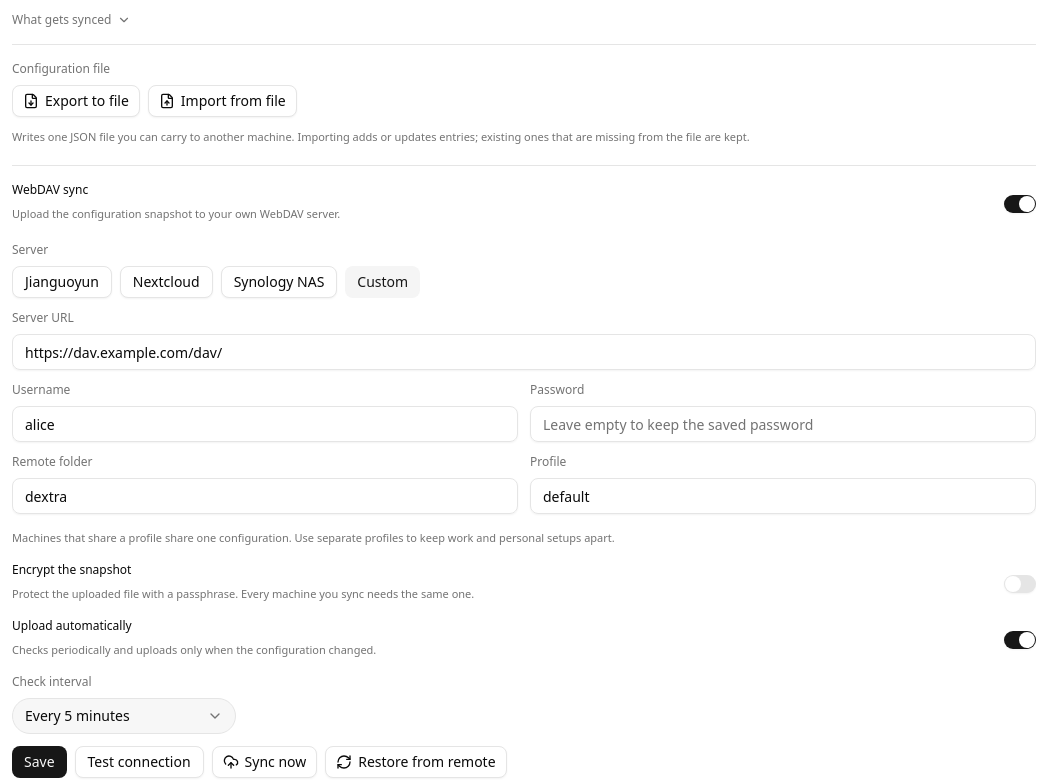
Test: ConfigSyncSettings — credentials › persists the master switch on click, so sync can be turned off
expect the button "Save" is shown: met, box [12,746,67,778]
What coordinates should you click on to do the following:
click the switch named "WebDAV sync" in the row of "WebDAV sync"
I would click on:
 (1020, 204)
Its box is [1004,195,1036,213].
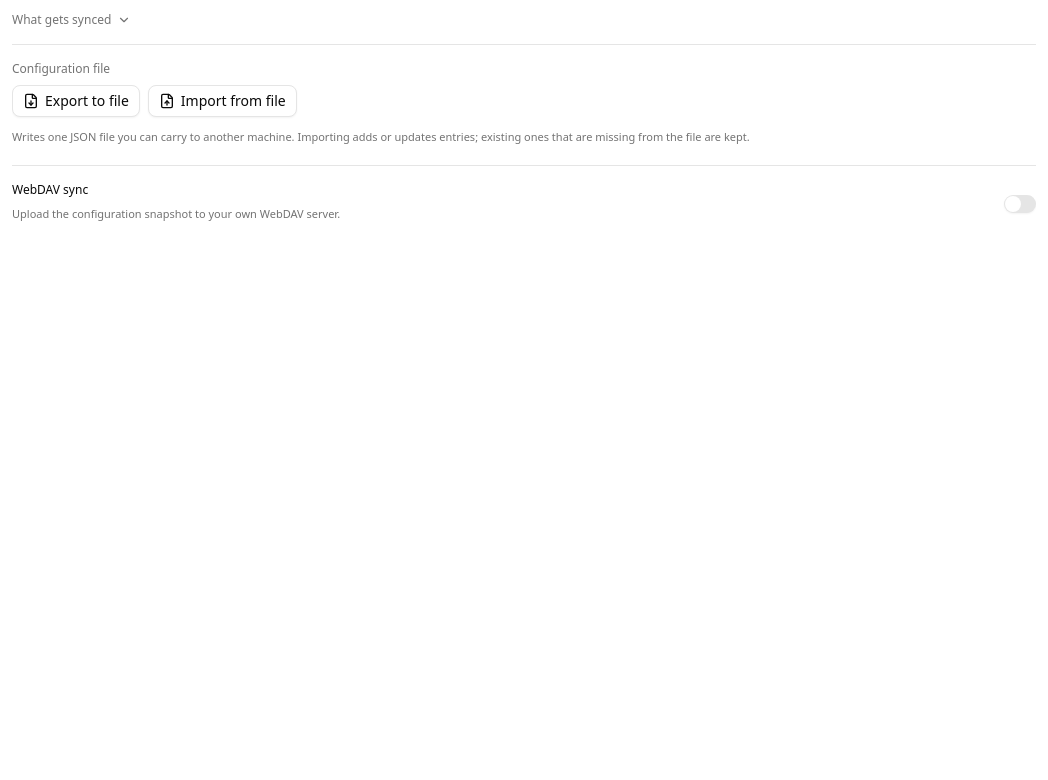
expect the button "Save" is gone: met
